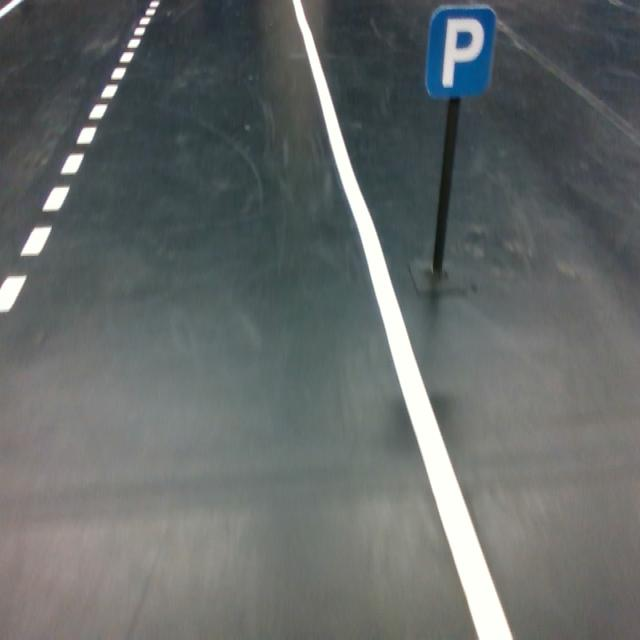parking-sign: (424, 4, 497, 101)
